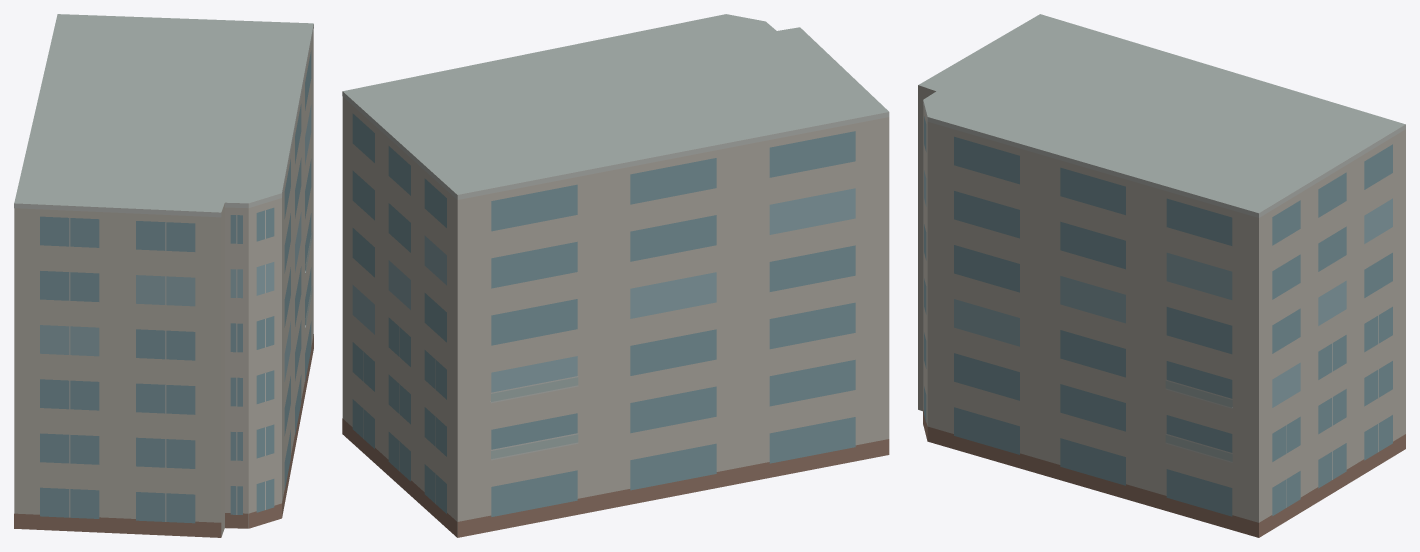
Rendered from survey-upis-32731732.glb.
3 renders of one model, left to right at view 1: azimuth 30°, elevation 25°; view 2: azimuth 150°, elevation 25°; view 3: azimuth 270°, elevation 25°, orthographic. The views are drawn at different scales.
Parts seen in each view (by area): view 1: survey-upis-32731732.tmp; view 2: survey-upis-32731732.tmp; view 3: survey-upis-32731732.tmp.
Part boxes in pixels (bbox=[...]): survey-upis-32731732.tmp: bbox=[14, 14, 313, 537]; survey-upis-32731732.tmp: bbox=[342, 14, 889, 537]; survey-upis-32731732.tmp: bbox=[918, 14, 1405, 537].
Size of the model in its own units: 21.73 by 16.5 by 22.48.
